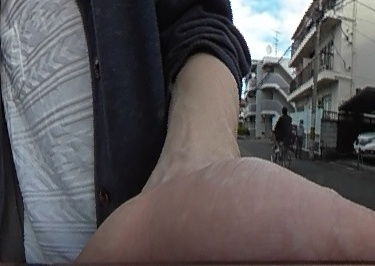person: (272, 105, 293, 159), (294, 118, 305, 158)
